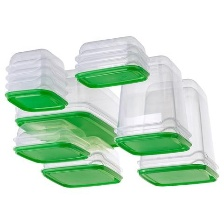plastic_box: (131, 73, 223, 195), (8, 65, 128, 154), (108, 51, 196, 161), (34, 130, 126, 194), (0, 43, 72, 116), (69, 30, 153, 92), (7, 114, 93, 168)
